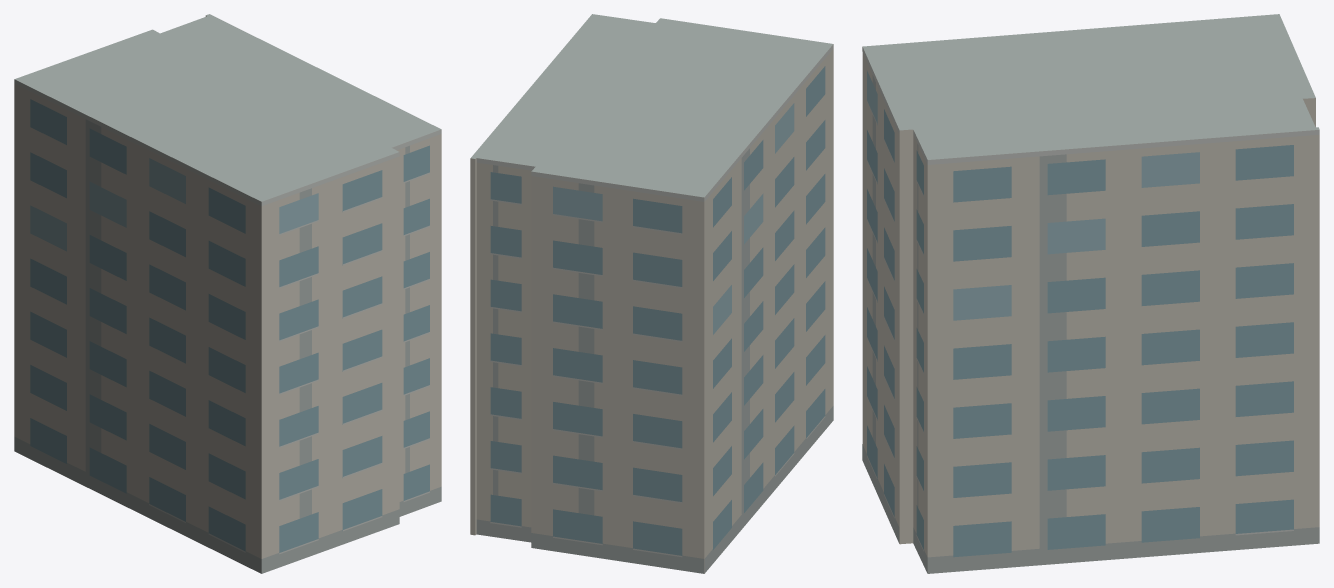
File: survey-upis-32959518.glb
The picture shows the model from 3 angles, left to right: view 1: azimuth 30°, elevation 25°; view 2: azimuth 150°, elevation 25°; view 3: azimuth 270°, elevation 25°; orthographic projection. The views are drawn at different scales.
Parts seen in each view (by area): view 1: survey-upis-32959518.tmp; view 2: survey-upis-32959518.tmp; view 3: survey-upis-32959518.tmp.
Boxes of the visible parts, left/top/right/bottom form: survey-upis-32959518.tmp: left=14, top=14, right=441, bottom=573; survey-upis-32959518.tmp: left=470, top=14, right=833, bottom=573; survey-upis-32959518.tmp: left=862, top=14, right=1319, bottom=573.
Size of the model in its own units: 15.22 by 20.1 by 20.13.
